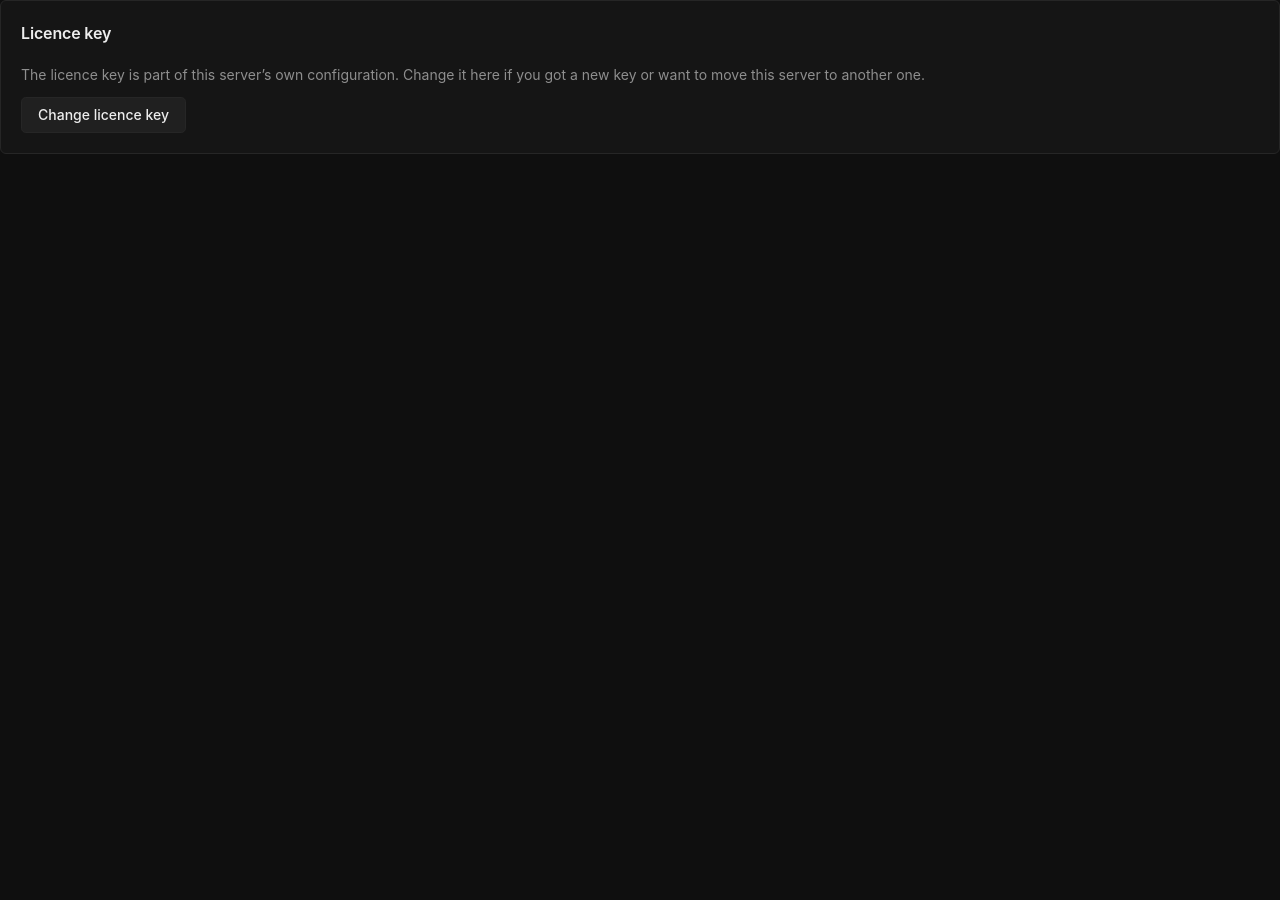
Test case: Change licence key (server Overview) › picks a saved key for a stopped server and says no restart is needed
Click the button "Change licence key" at (104, 115), box [21,97,186,133]
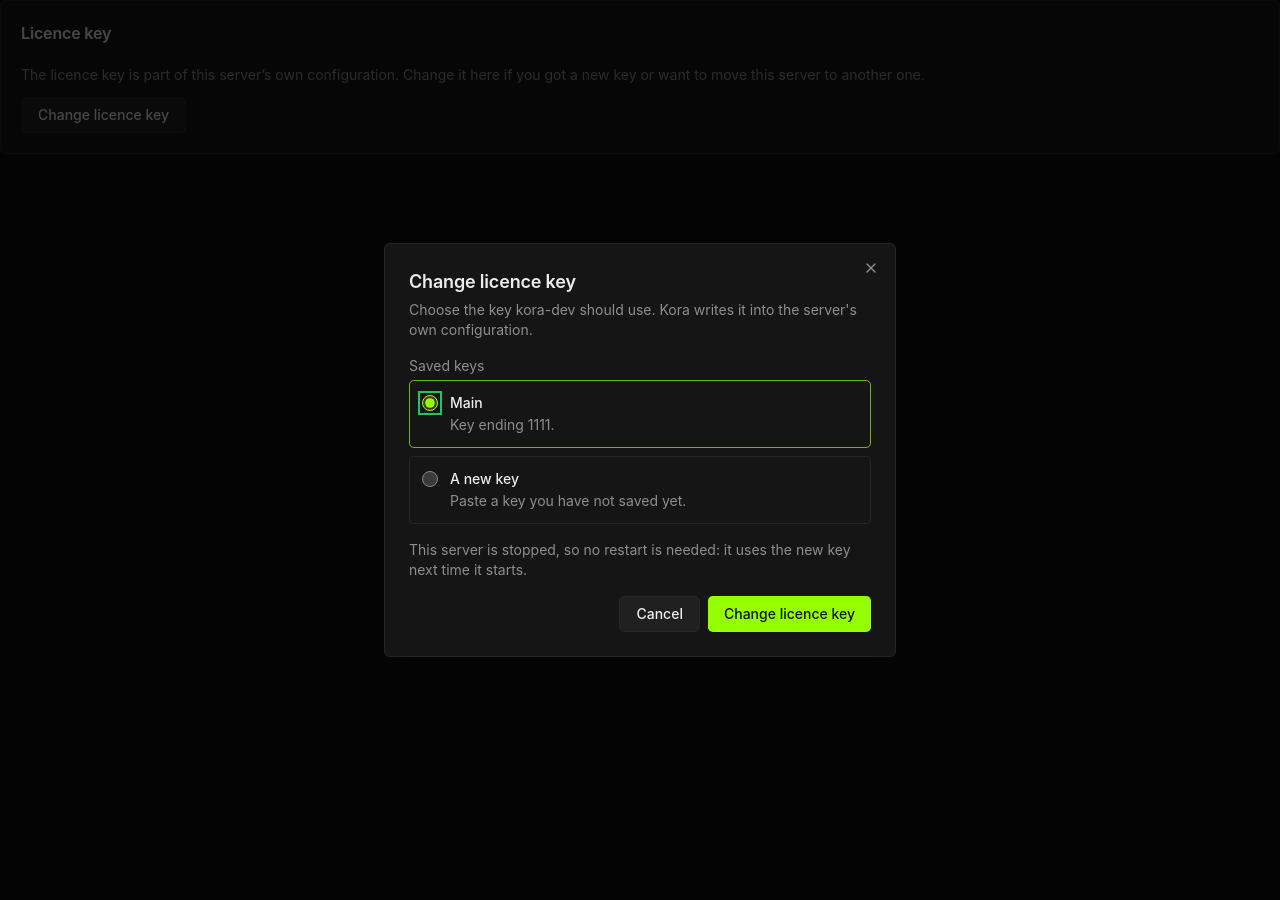
Expected: the radio button labelled "Main Key ending 1111." is checked, [422,395,438,411]
Expected: the text "stopped, so no restart is needed" is shown, [409,541,851,578]
Click the button "Change licence key" at (790, 614), box [708,596,871,632]
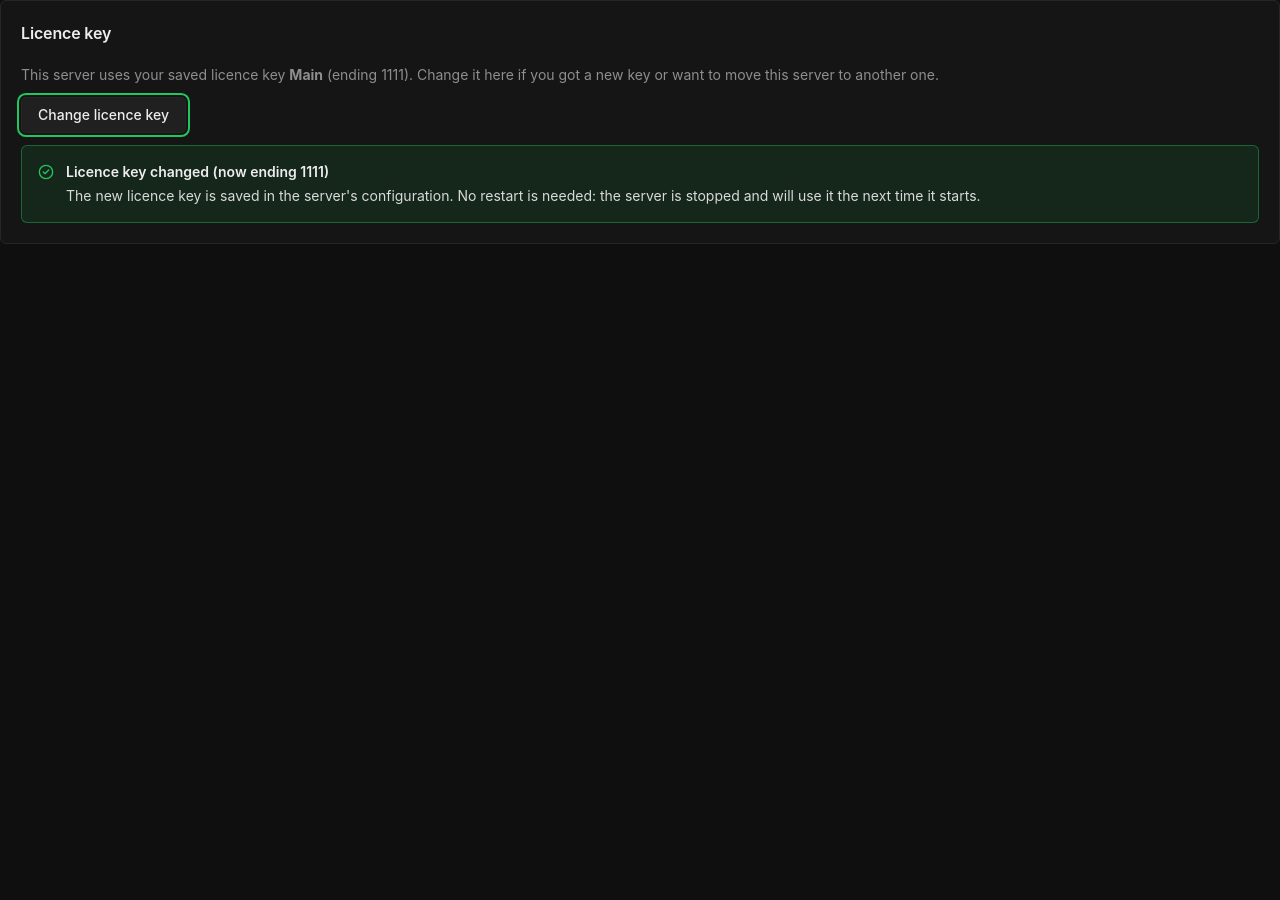
Expected: the text "Main" is shown, [289,66,323,83]
Expected: the text "Licence key changed (now ending 1111)" is shown, [66,163,329,180]
Expected: the text "No restart is needed" is shown, [66,187,981,204]
